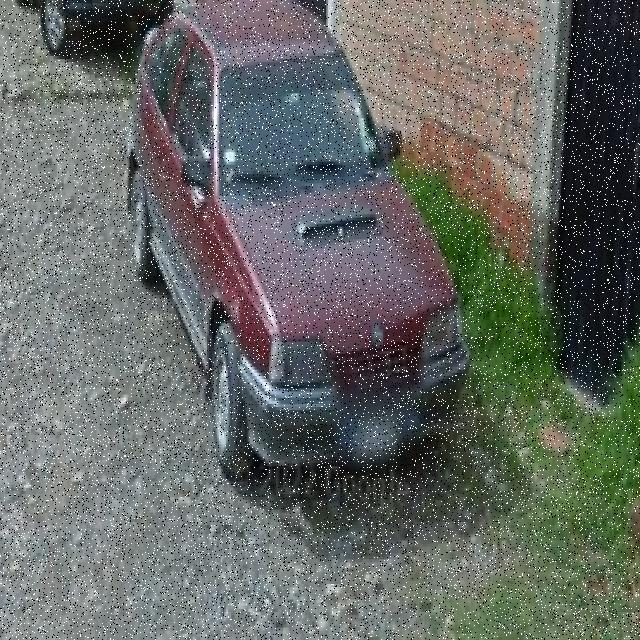cars: (128, 15, 468, 471)
